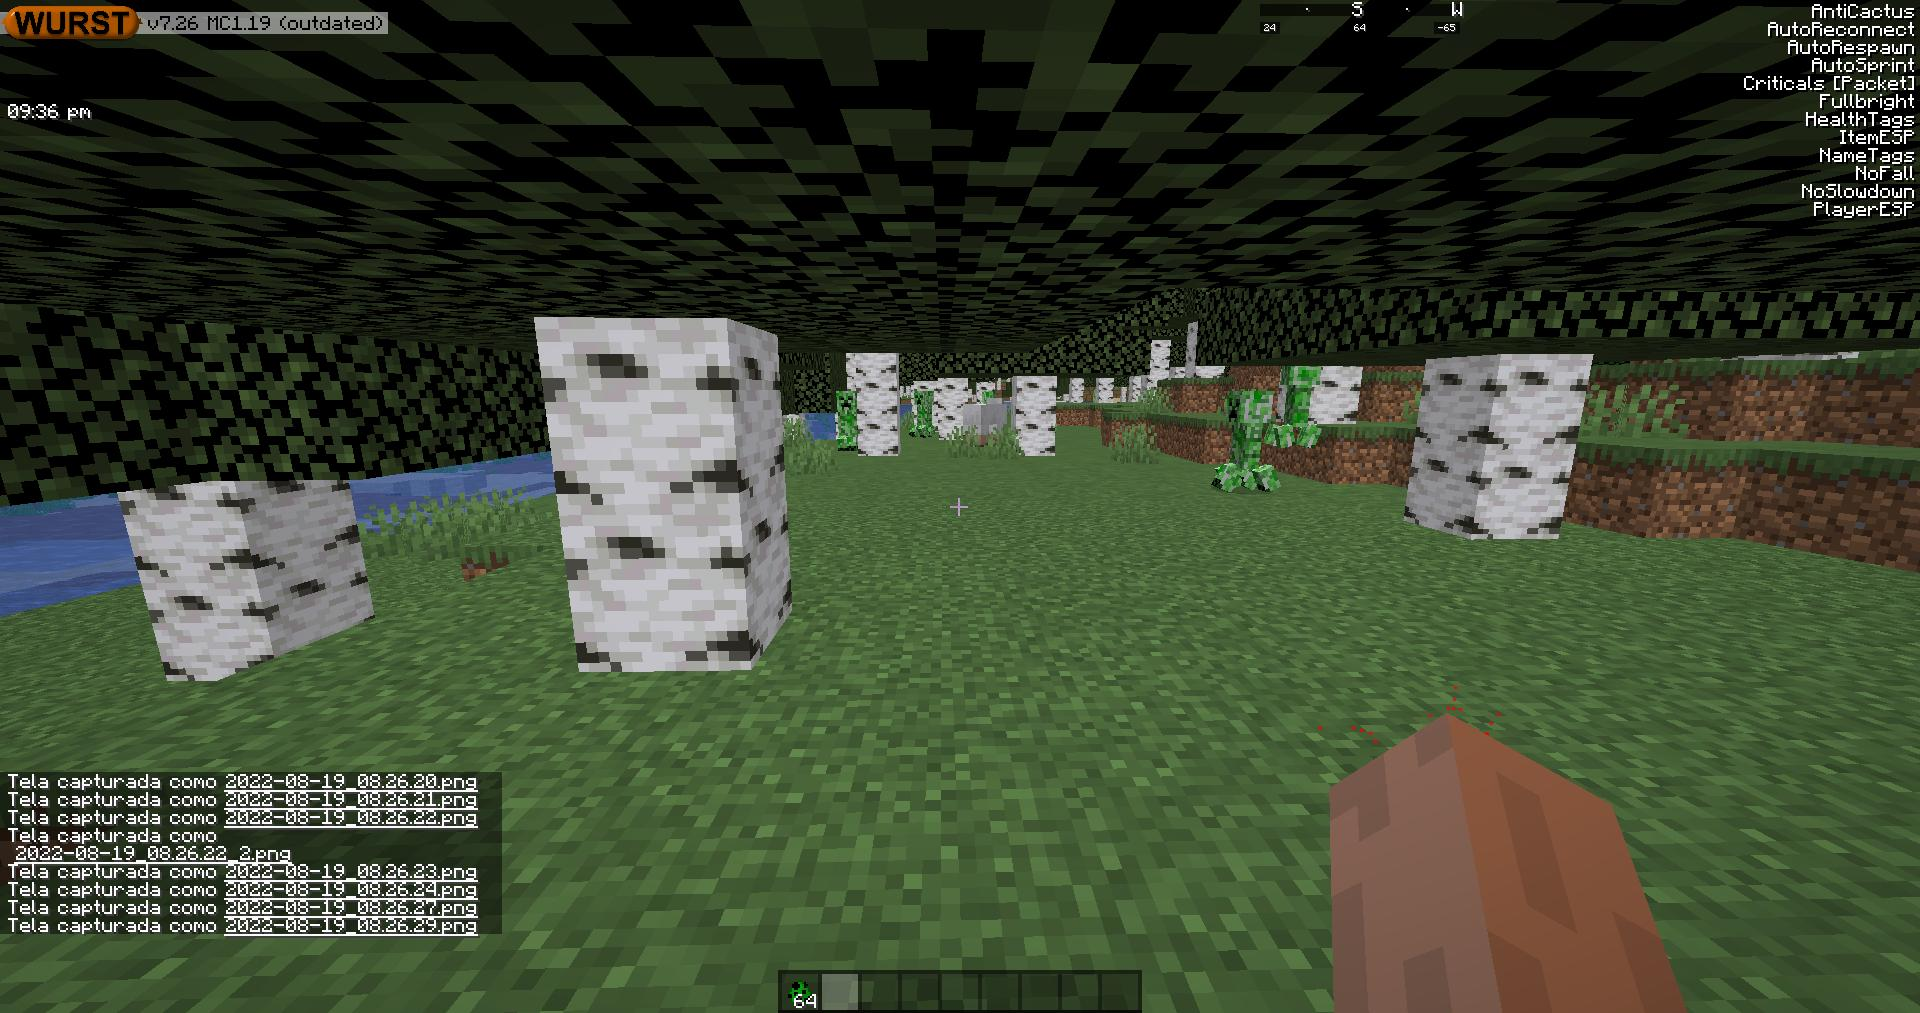creeper: (1223, 388, 1272, 493), (1277, 361, 1321, 451), (834, 391, 857, 451), (910, 388, 931, 435)
